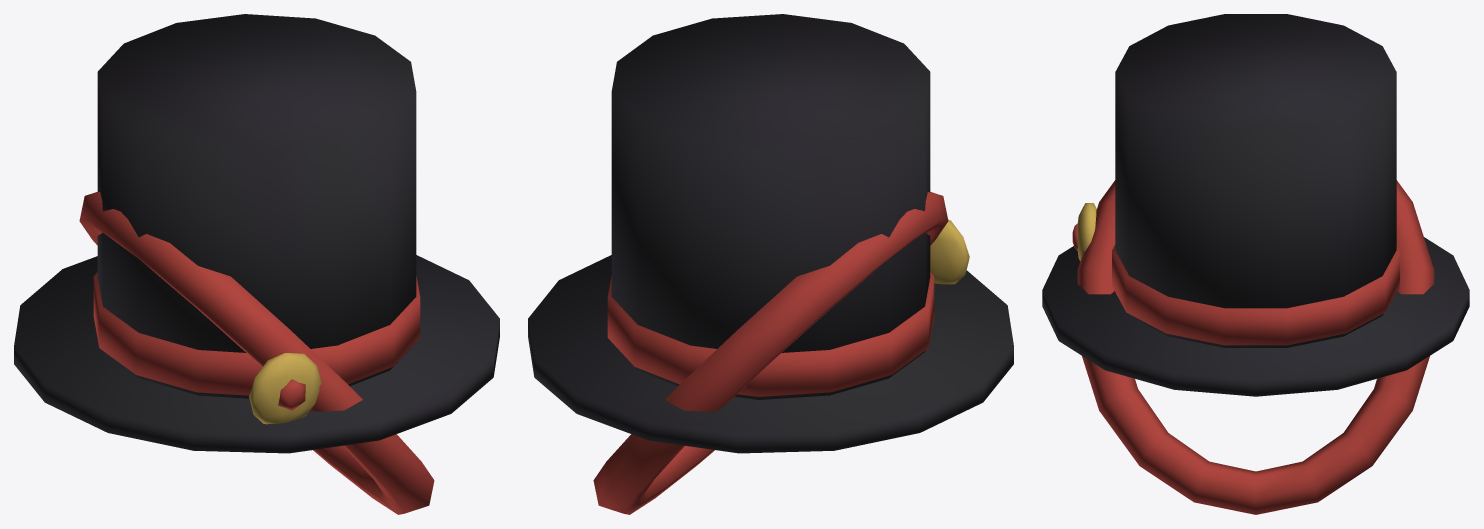
File: outfit.mayor.glb
The picture shows the model from 3 angles, left to right: view 1: azimuth 30°, elevation 25°; view 2: azimuth 150°, elevation 25°; view 3: azimuth 270°, elevation 25°; orthographic projection. The views are drawn at different scales.
Visible parts, largest first — view 1: top_hat, sash; view 2: top_hat, sash; view 3: top_hat, sash.
Part boxes in pixels (x1,y1,x2,y2): top_hat: (14,14,499,453); sash: (79,192,434,514); top_hat: (528,14,1013,453); sash: (593,192,969,514); top_hat: (1042,14,1469,396); sash: (1072,180,1434,514).
Size of the model in its own units: 0.38 by 0.3806 by 0.38.
